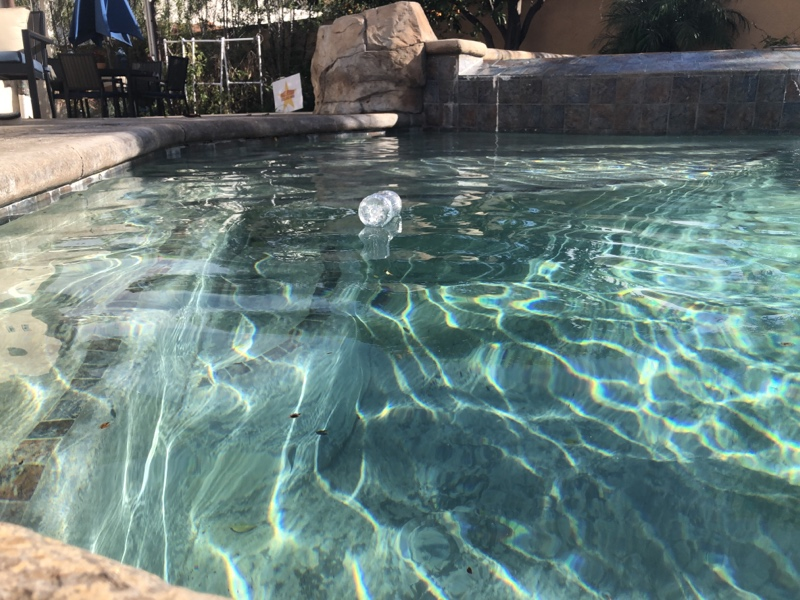Plastic Bottle: (354, 188, 404, 231)
